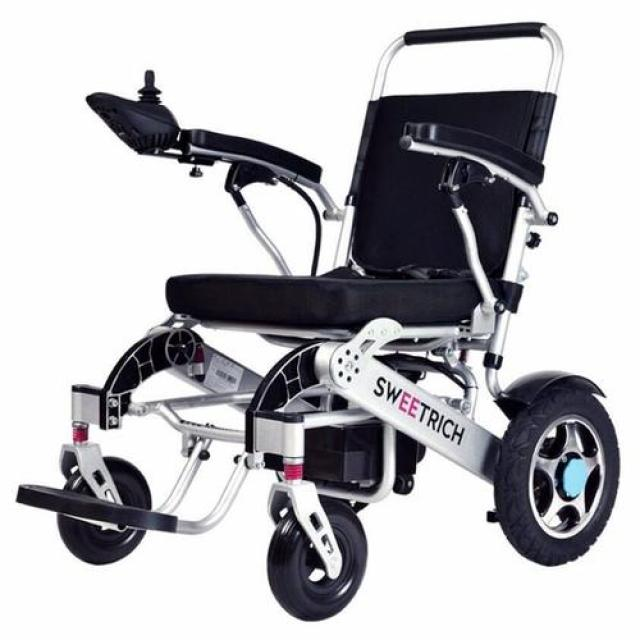wheelchairs: (10, 19, 631, 632)
